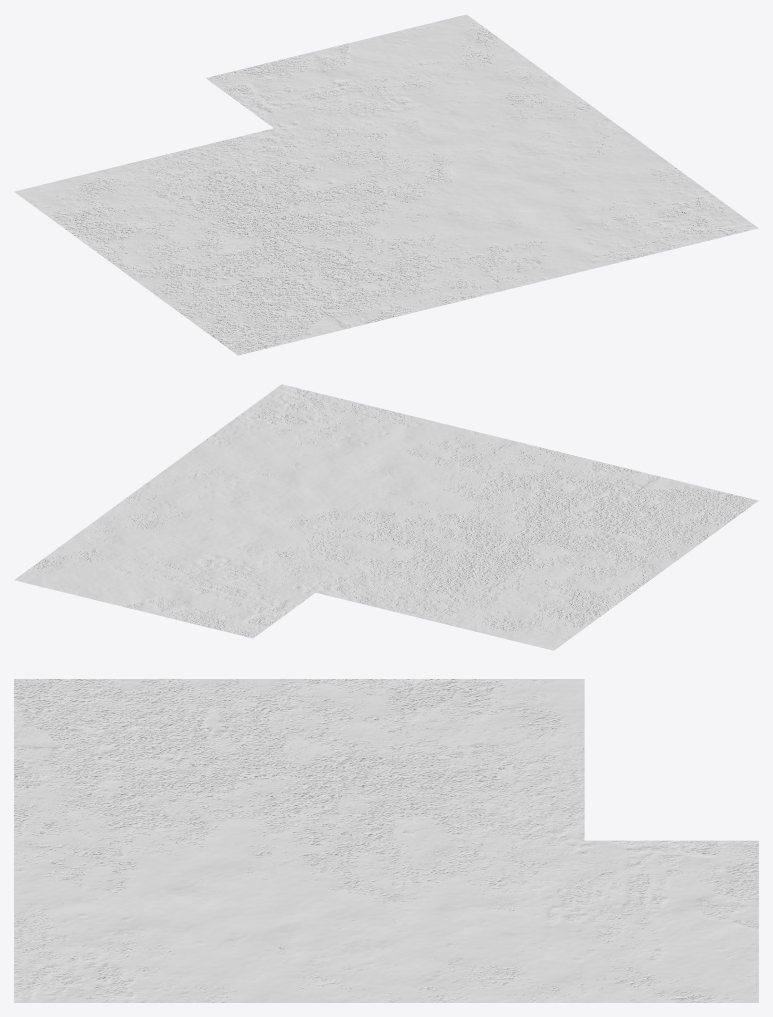
The model's file is teto.glb.
3 renders of one model, top to bottom at view 1: azimuth 30°, elevation 25°; view 2: azimuth 150°, elevation 25°; view 3: azimuth 270°, elevation 25°, orthographic. The views are drawn at different scales.
Parts seen in each view (by area): view 1: roomwalls-col.001; view 2: roomwalls-col.001; view 3: roomwalls-col.001.
Part boxes in pixels (bbox=[...]): roomwalls-col.001: bbox=[14, 14, 758, 355]; roomwalls-col.001: bbox=[14, 384, 758, 650]; roomwalls-col.001: bbox=[14, 679, 758, 1002].
Size of the model in its own units: 5.33 by 0 by 5.18.
Materials: 1 (1 with a texture image).
